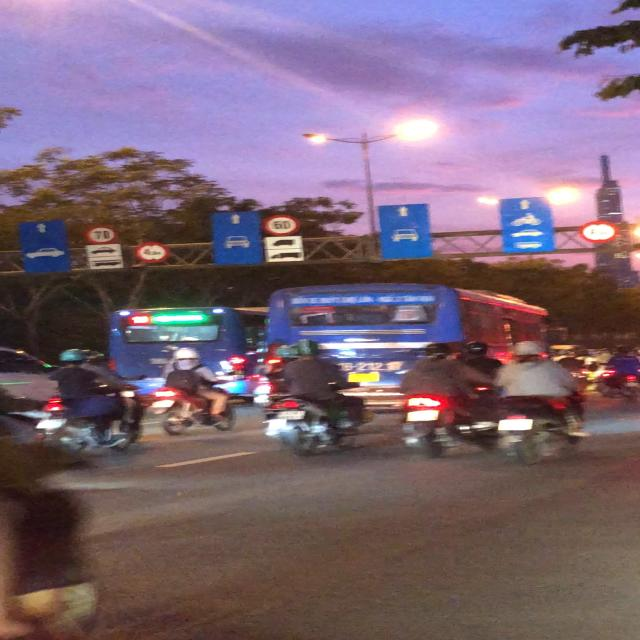Bien bao han che chieu cao: (575, 218, 621, 246), (134, 239, 172, 262)
Bien bao toc do toi da cho phep: (261, 213, 300, 235), (84, 223, 120, 246)
